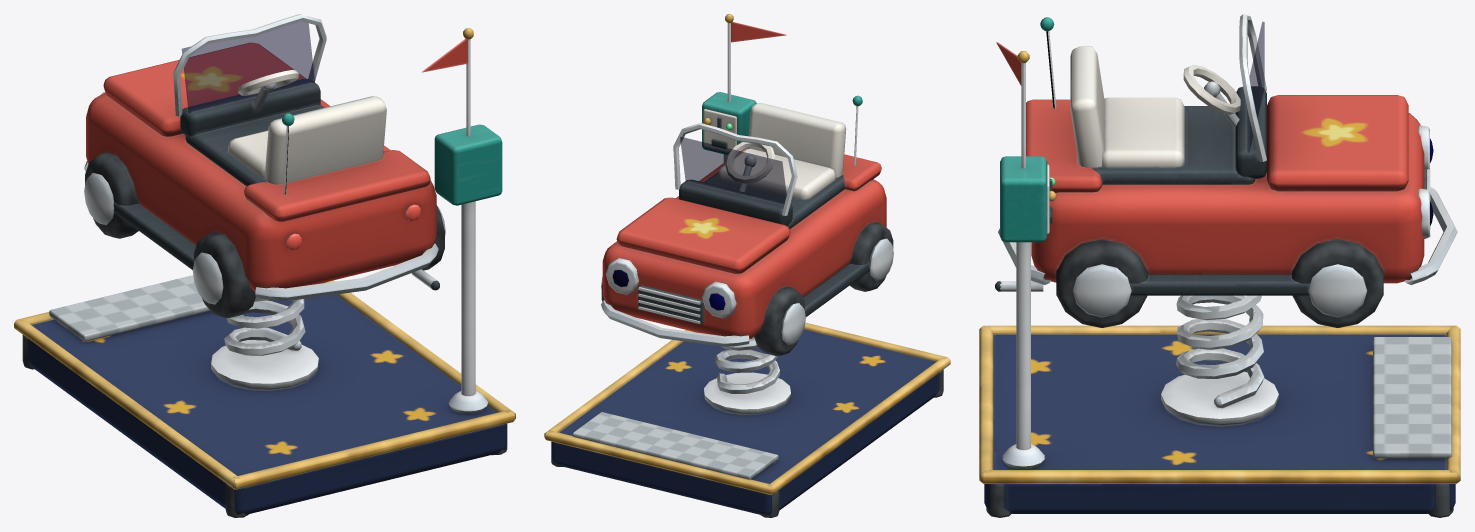
File: kiddie-ride.fbx
The picture shows the model from 3 angles, left to right: view 1: azimuth 30°, elevation 25°; view 2: azimuth 150°, elevation 25°; view 3: azimuth 270°, elevation 25°; orthographic projection. The views are drawn at different scales.
Parts seen in each view (by area): view 1: Body, Anim Bob, Anim Sway; view 2: Anim Bob, Body, Anim Sway; view 3: Body, Anim Bob.
Boxes of the visible parts, bbox=[...] form: Body: bbox=[14, 28, 515, 517]; Anim Bob: bbox=[84, 14, 445, 318]; Anim Sway: bbox=[421, 38, 467, 72]; Anim Bob: bbox=[601, 95, 893, 356]; Body: bbox=[544, 14, 950, 517]; Anim Sway: bbox=[731, 21, 786, 42]; Body: bbox=[979, 51, 1460, 517]; Anim Bob: bbox=[995, 14, 1457, 327].
Bounding box in the file's own units: 0.905 × 1.28 × 1.23.
